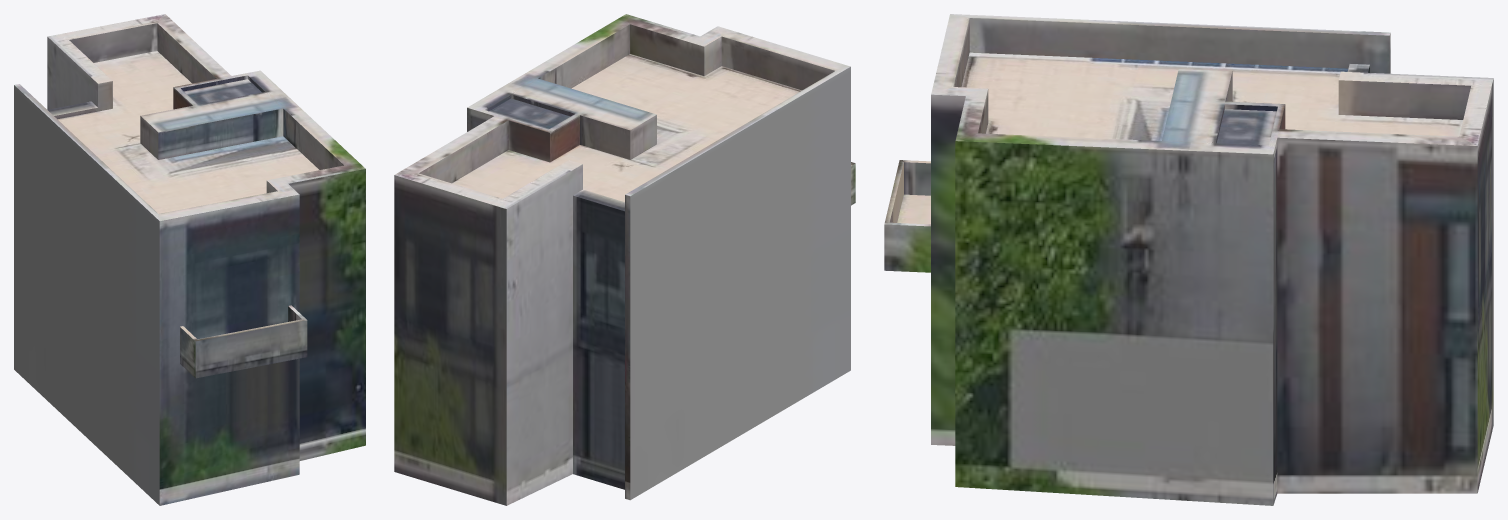
The picture shows the model from 3 angles, left to right: view 1: azimuth 30°, elevation 25°; view 2: azimuth 150°, elevation 25°; view 3: azimuth 270°, elevation 25°; orthographic projection. The views are drawn at different scales.
Parts seen in each view (by area): view 1: B286904035001062A0; view 2: B286904035001062A0; view 3: B286904035001062A0.
Boxes of the visible parts, left/top/right/bottom form: B286904035001062A0: left=14, top=14, right=365, bottom=505; B286904035001062A0: left=394, top=14, right=855, bottom=505; B286904035001062A0: left=884, top=14, right=1493, bottom=505.
Bounding box in the file's own units: 8.35 × 9.87 × 15.32.
1 material, 1 textured.
